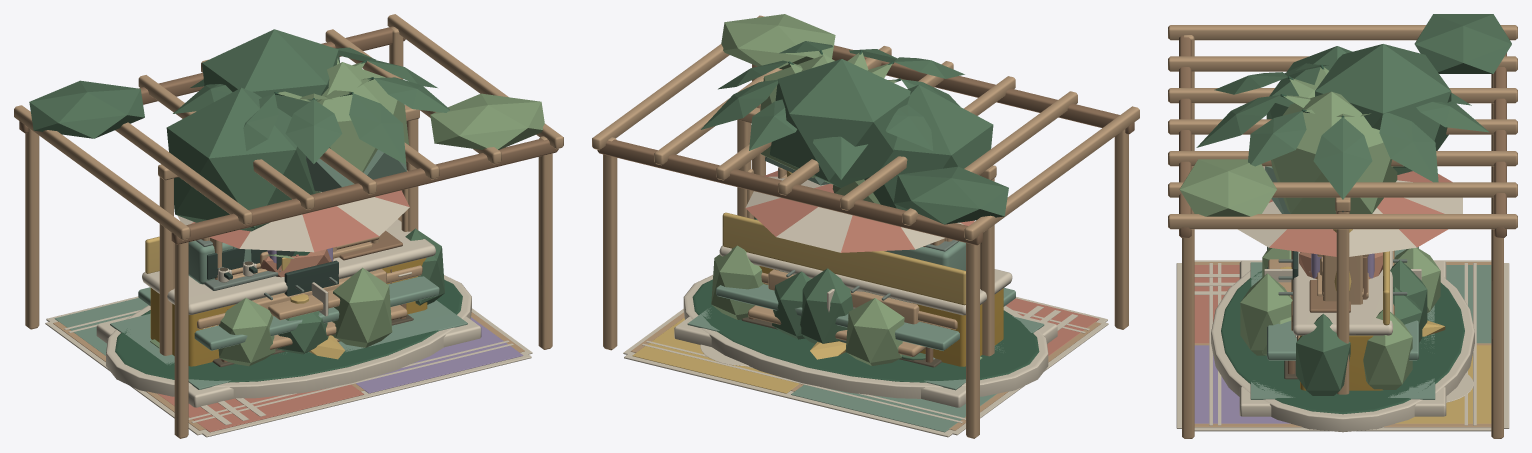
File: commons.glb
3 renders of one model, left to right at view 1: azimuth 30°, elevation 25°; view 2: azimuth 150°, elevation 25°; view 3: azimuth 270°, elevation 25°, orthographic. The views are drawn at different scales.
Visible parts, largest first — view 1: Pergola, TreeRound, PocketGarden, CafeCounter, PatchworkRug, PalmTree, BeachUmbrella, ReflectingPool, StringArch, SisalRug, PingPongTable, PizzaOven (+4 smaller); view 2: Pergola, PocketGarden, TreeRound, CafeCounter, PatchworkRug, PalmTree, BeachUmbrella, SisalRug, PingPongTable, StringArch, ReflectingPool, FoosballTable (+2 smaller); view 3: Pergola, PocketGarden, TreeRound, PalmTree, PatchworkRug, BeachUmbrella, CafeCounter, SisalRug, ReflectingPool, StringArch, PingPongTable, Bookshelf (+4 smaller).
Part boxes in pixels (bbox=[...]): Pergola: bbox=[14, 14, 563, 438]; TreeRound: bbox=[166, 29, 408, 231]; PocketGarden: bbox=[106, 228, 471, 398]; CafeCounter: bbox=[142, 219, 435, 366]; PatchworkRug: bbox=[46, 296, 531, 437]; PalmTree: bbox=[173, 47, 449, 164]; BeachUmbrella: bbox=[174, 190, 409, 252]; ReflectingPool: bbox=[96, 300, 481, 407]; StringArch: bbox=[158, 105, 419, 355]; SisalRug: bbox=[45, 308, 532, 435]; PingPongTable: bbox=[138, 276, 439, 362]; PizzaOven: bbox=[260, 249, 340, 320]; Pergola: bbox=[592, 14, 1139, 438]; PocketGarden: bbox=[683, 218, 1048, 398]; TreeRound: bbox=[760, 55, 993, 210]; CafeCounter: bbox=[719, 212, 1012, 366]; PatchworkRug: bbox=[624, 297, 1107, 437]; PalmTree: bbox=[701, 41, 964, 179]; BeachUmbrella: bbox=[745, 170, 974, 252]; SisalRug: bbox=[623, 309, 1108, 435]; PingPongTable: bbox=[716, 284, 1015, 362]; StringArch: bbox=[737, 107, 996, 356]; ReflectingPool: bbox=[674, 308, 1057, 407]; FoosballTable: bbox=[768, 269, 919, 324]; Pergola: bbox=[1168, 14, 1517, 438]; PocketGarden: bbox=[1211, 247, 1474, 432]; TreeRound: bbox=[1266, 44, 1451, 213]; PalmTree: bbox=[1196, 63, 1488, 199]; PatchworkRug: bbox=[1176, 263, 1509, 428]; BeachUmbrella: bbox=[1238, 166, 1462, 256]; CafeCounter: bbox=[1293, 251, 1392, 390]; SisalRug: bbox=[1194, 260, 1491, 431]; ReflectingPool: bbox=[1239, 260, 1446, 416]; StringArch: bbox=[1335, 197, 1350, 394]; PingPongTable: bbox=[1264, 247, 1421, 374]; Bookshelf: bbox=[1322, 255, 1363, 304].
Size of the model in its own units: 8.24 by 5.9 by 6.1.
